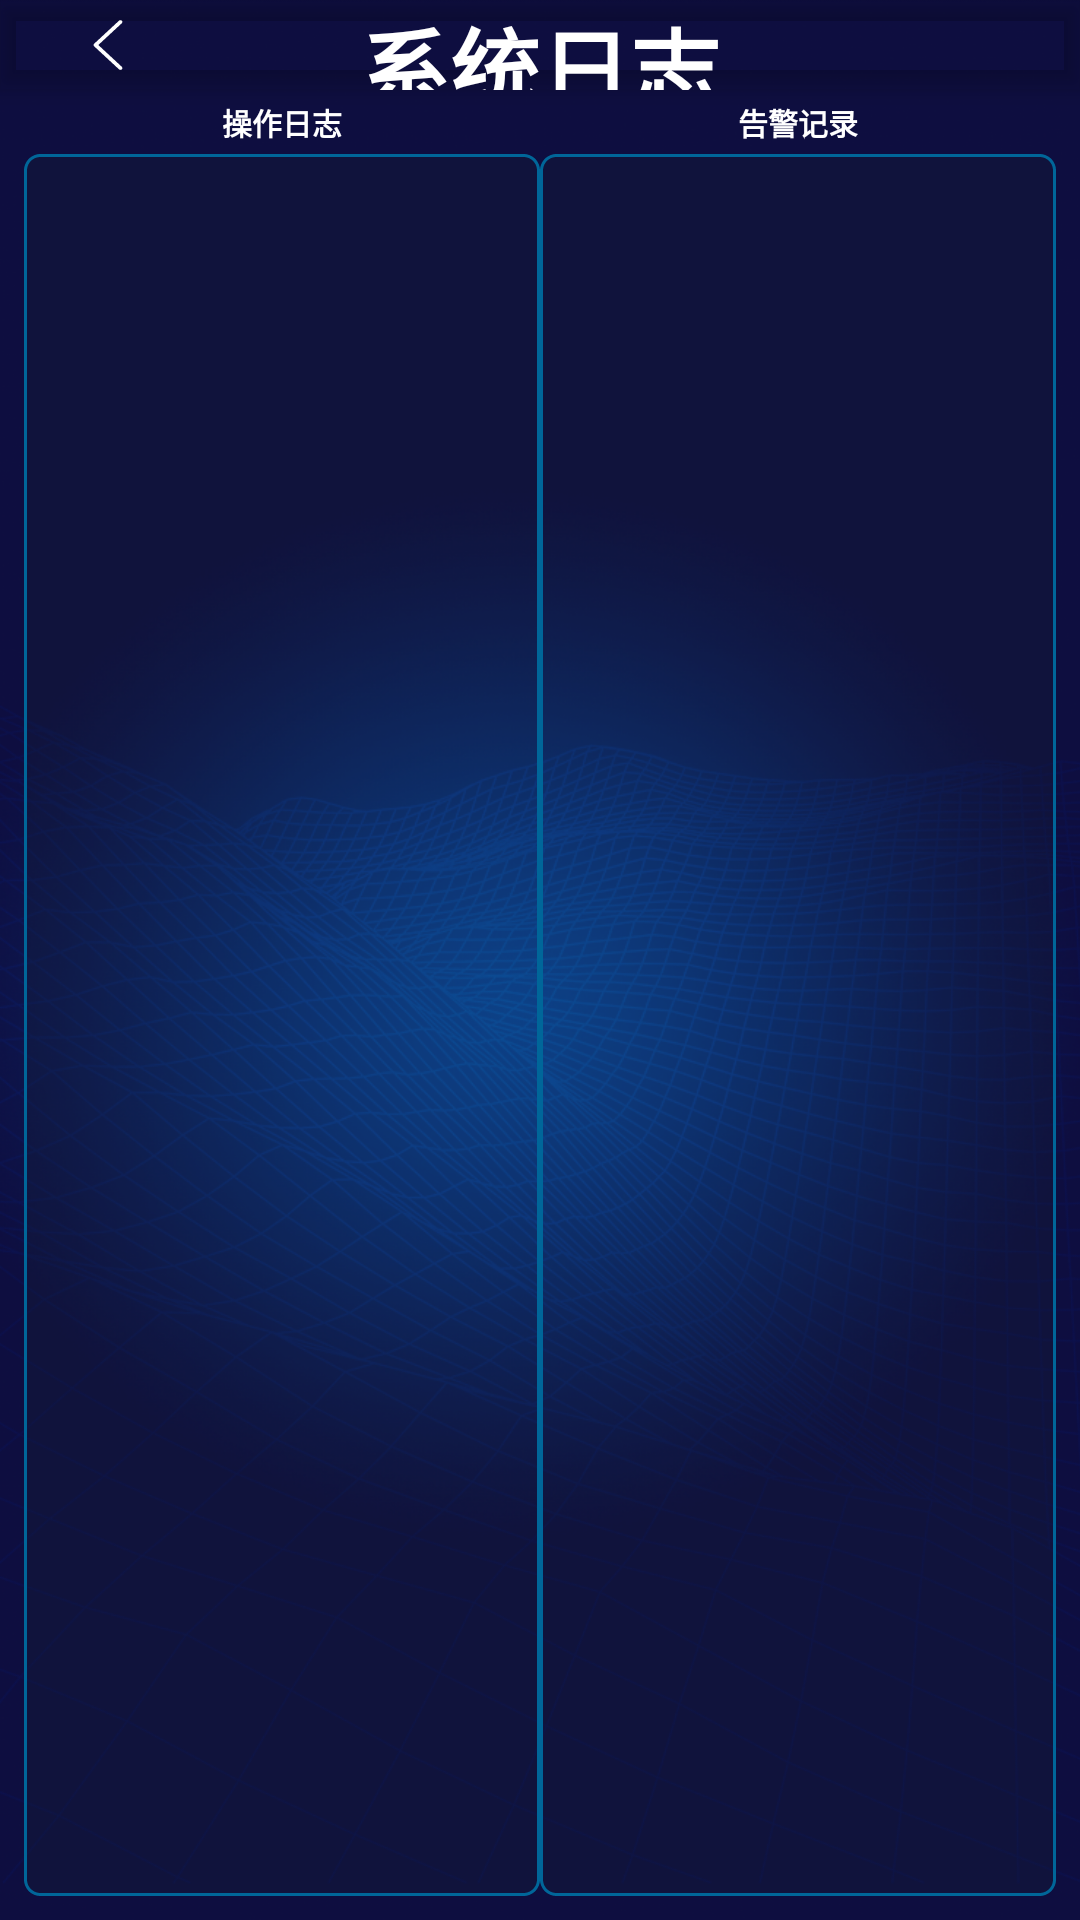

Screen size 1080×1920. Icon name, then its center in pixels as (x=x, y=y):
back: (x=108, y=45)
